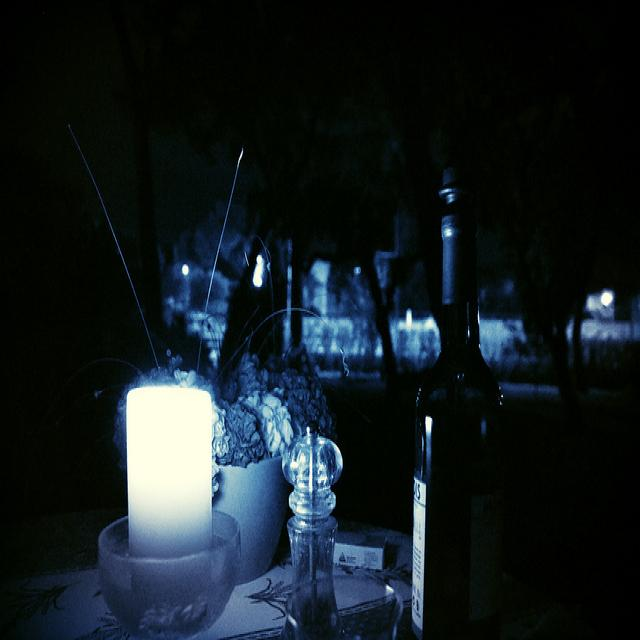Bottle: (417, 151, 541, 640), (274, 431, 379, 640)
